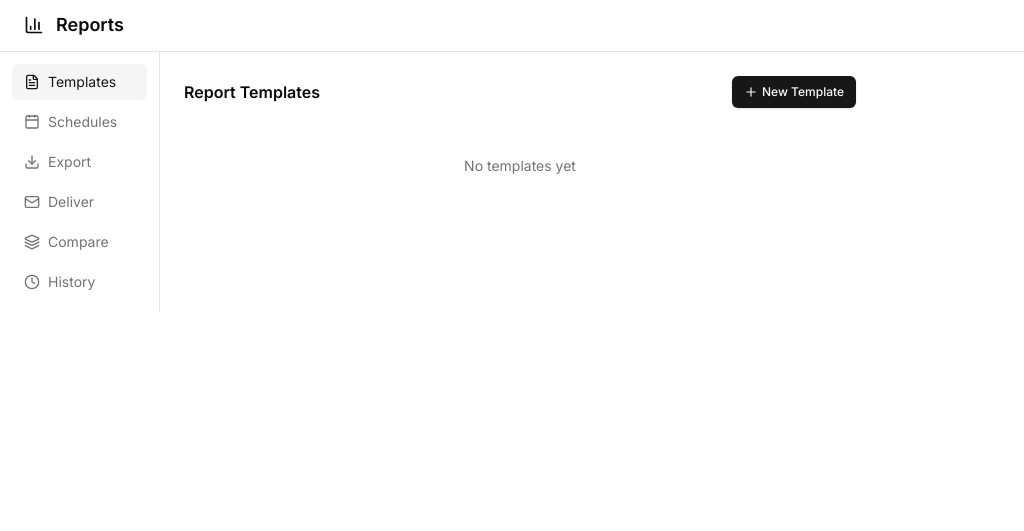
it: ReportsPage › switches to deliver tab
Click the button "Deliver".
click(80, 202)  # box [12,184,147,220]
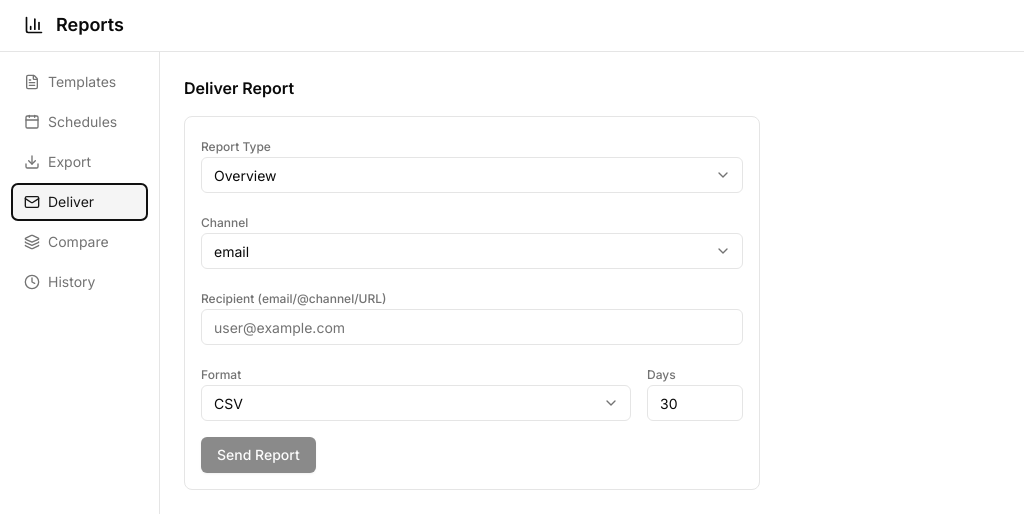
Check: the heading "Deliver Report" is shown, box [184,78,294,98]
